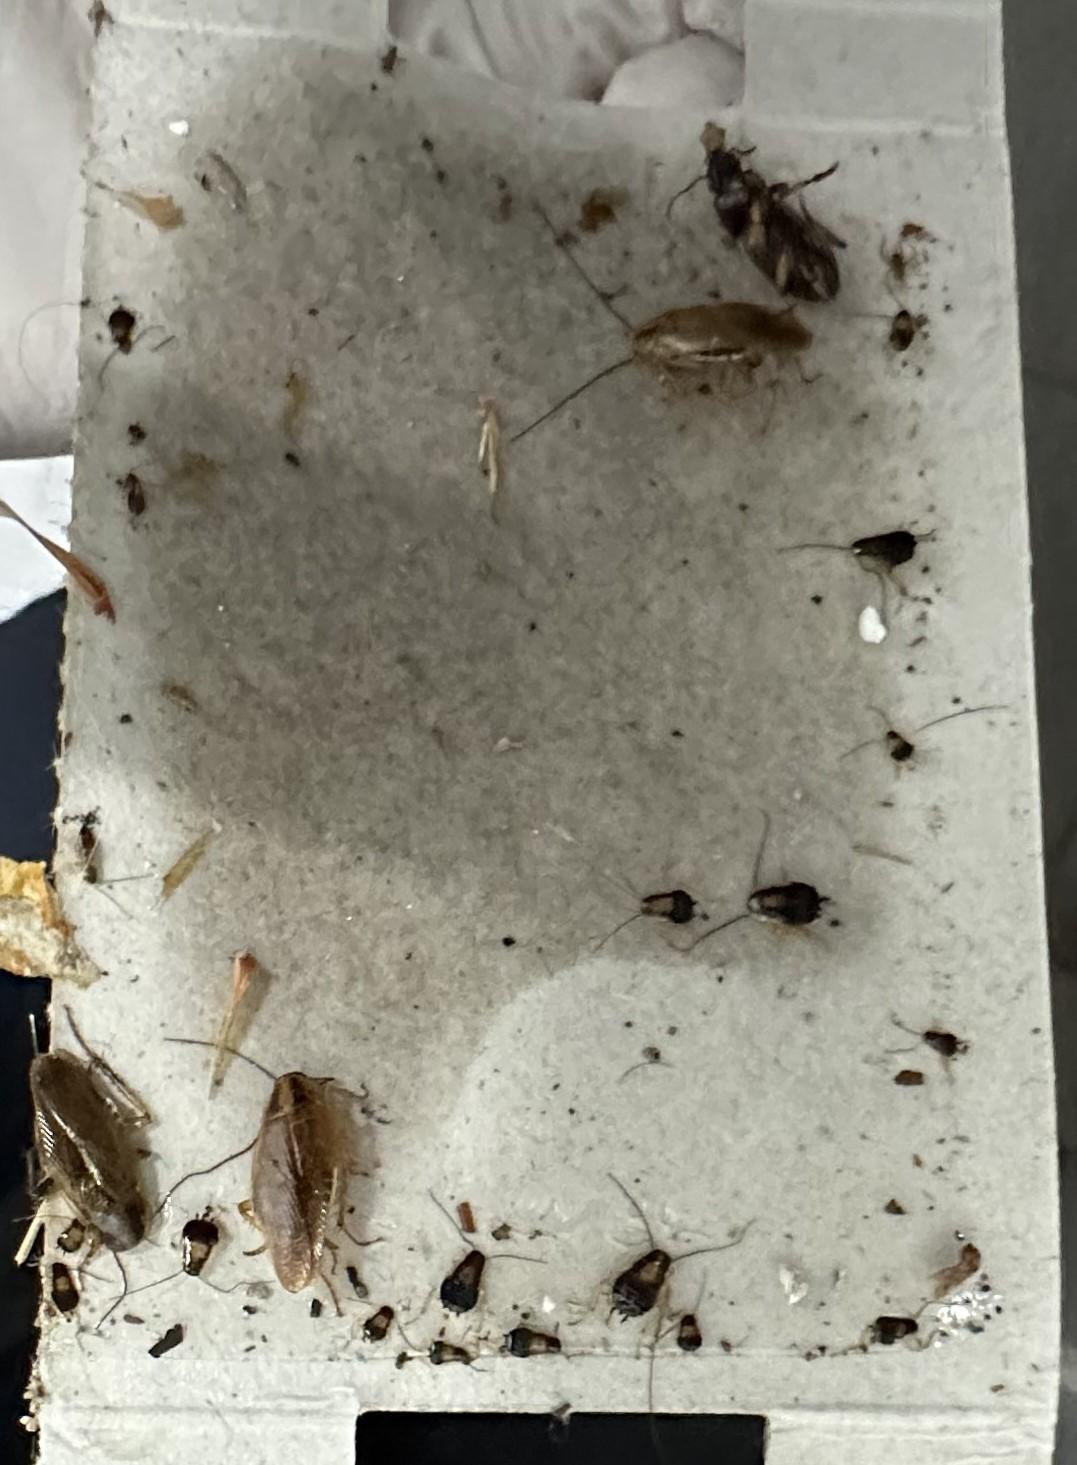cockroach: (13, 10, 1039, 1444), (170, 1017, 412, 1350), (617, 47, 876, 340), (0, 994, 196, 1332), (493, 247, 804, 444)
